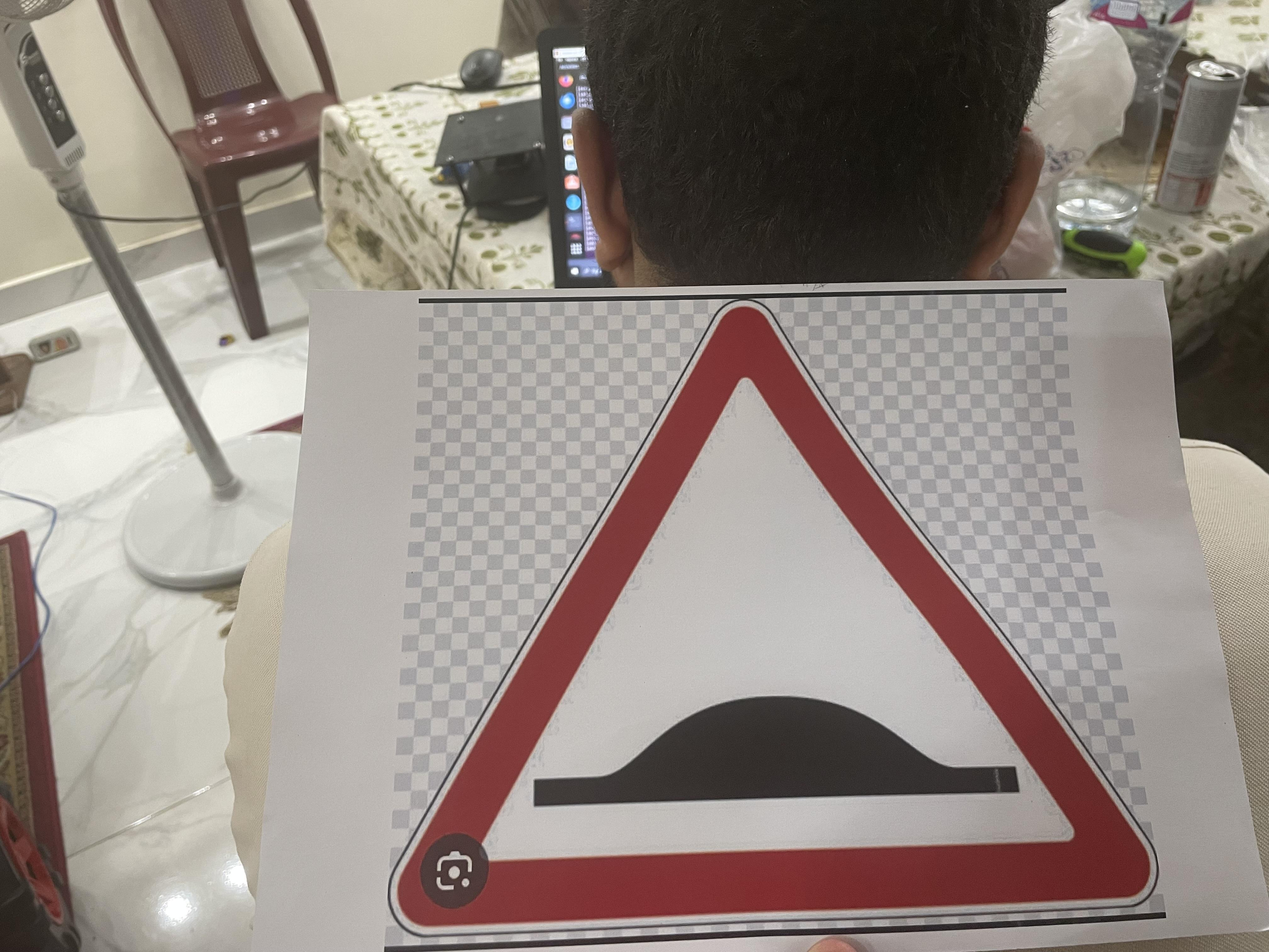Hump: (376, 306, 1173, 933)
